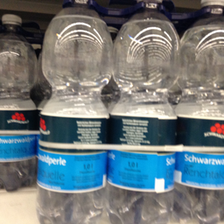water: (38, 1, 113, 224), (108, 1, 182, 224), (181, 1, 223, 222), (1, 13, 40, 193)
